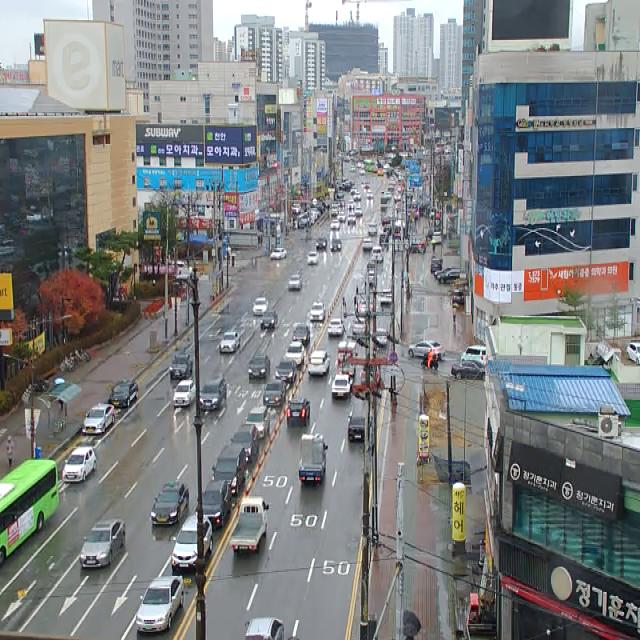Bus: (0, 459, 59, 567)
Car: (136, 576, 183, 633), (79, 519, 125, 568), (172, 515, 212, 571), (152, 480, 190, 527), (212, 444, 246, 494), (196, 480, 231, 528), (62, 447, 96, 482), (230, 424, 260, 463), (82, 403, 115, 436), (244, 617, 284, 640), (109, 378, 138, 407), (200, 379, 227, 410), (246, 406, 270, 438), (286, 397, 310, 427), (408, 341, 446, 359), (170, 353, 194, 381), (173, 380, 196, 408), (263, 380, 286, 407), (308, 350, 330, 377), (451, 362, 485, 379), (249, 354, 271, 380), (275, 359, 297, 383), (461, 344, 486, 365), (219, 331, 241, 354), (332, 375, 353, 399), (348, 414, 365, 442), (285, 341, 304, 366), (292, 324, 310, 347), (260, 310, 278, 330), (437, 269, 460, 284), (310, 302, 325, 322), (328, 318, 344, 336), (627, 343, 640, 364), (254, 297, 268, 316), (434, 267, 456, 279), (352, 318, 367, 335), (288, 275, 302, 291), (359, 299, 373, 314), (270, 248, 287, 260), (376, 328, 387, 346), (365, 271, 377, 287), (409, 243, 426, 254), (381, 290, 392, 307), (380, 232, 389, 252), (453, 290, 464, 306), (372, 246, 382, 262), (431, 259, 442, 273), (331, 239, 342, 252), (316, 237, 327, 250), (432, 232, 442, 245), (308, 253, 318, 265), (330, 220, 340, 231), (368, 224, 378, 235), (337, 211, 346, 223), (362, 241, 372, 251), (348, 213, 356, 224), (366, 189, 374, 199), (355, 206, 362, 217), (348, 200, 355, 209), (354, 192, 361, 201)
Truck: (230, 496, 269, 552), (299, 434, 328, 482), (337, 341, 358, 378)
